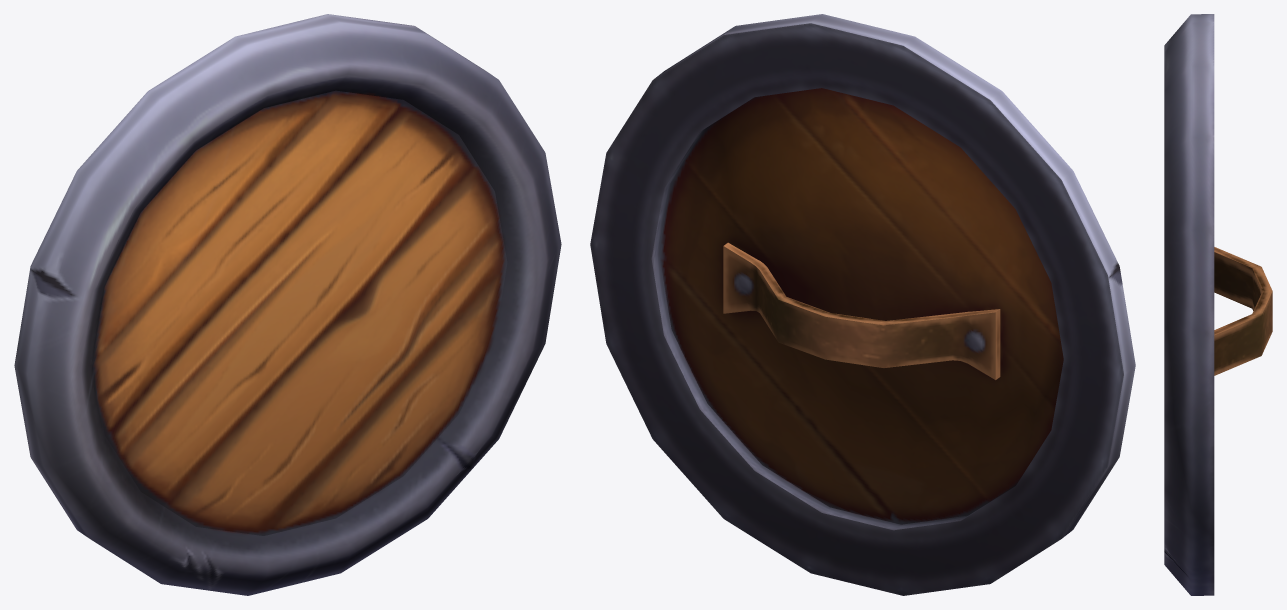
Rendered from 061_a_smal_shield.fbx.
3 views of the same model, side by side, from view 1: azimuth 30°, elevation 25°; view 2: azimuth 150°, elevation 25°; view 3: azimuth 270°, elevation 25° (orthographic). The views are drawn at different scales.
Visible parts, largest first — view 1: 061_a_smal_shield; view 2: 061_a_smal_shield; view 3: 061_a_smal_shield.
Part boxes in pixels (x1,y1,x2,y2): 061_a_smal_shield: (14,14,561,595); 061_a_smal_shield: (590,14,1135,595); 061_a_smal_shield: (1164,14,1272,595).
Size of the model in its own units: 40.05 by 39.39 by 7.42.
